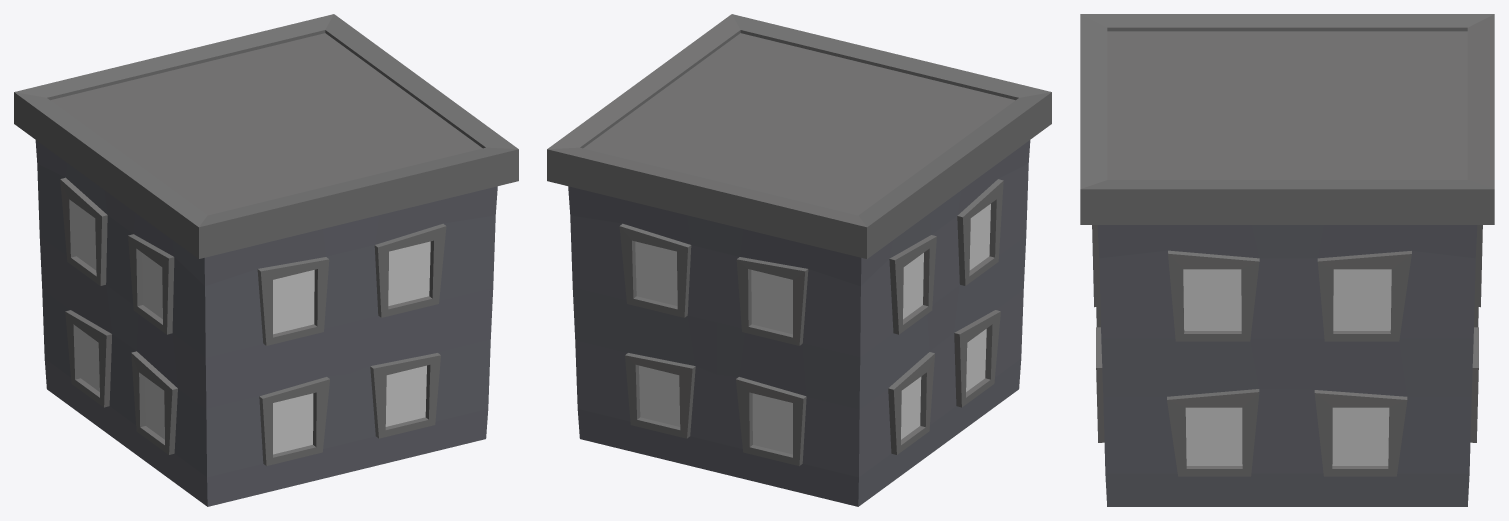
The model's file is 1X1build.fbx.
3 renders of one model, left to right at view 1: azimuth 30°, elevation 25°; view 2: azimuth 150°, elevation 25°; view 3: azimuth 270°, elevation 25°, orthographic. The views are drawn at different scales.
Visible parts, largest first — view 1: Cube; view 2: Cube; view 3: Cube.
Part boxes in pixels (x1,y1,x2,y2): Cube: [14, 14, 518, 506]; Cube: [547, 14, 1051, 506]; Cube: [1080, 14, 1494, 506].
Bounding box in the file's own units: 115 × 101 × 115.
